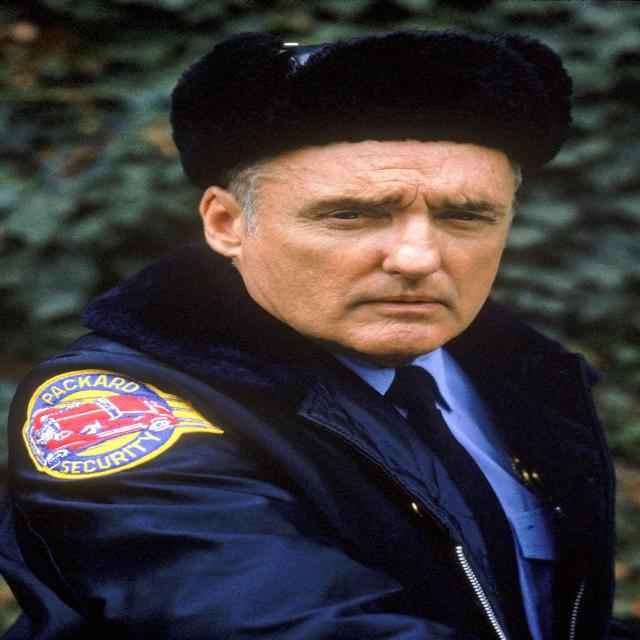no-earmuff: (199, 185, 250, 257)
